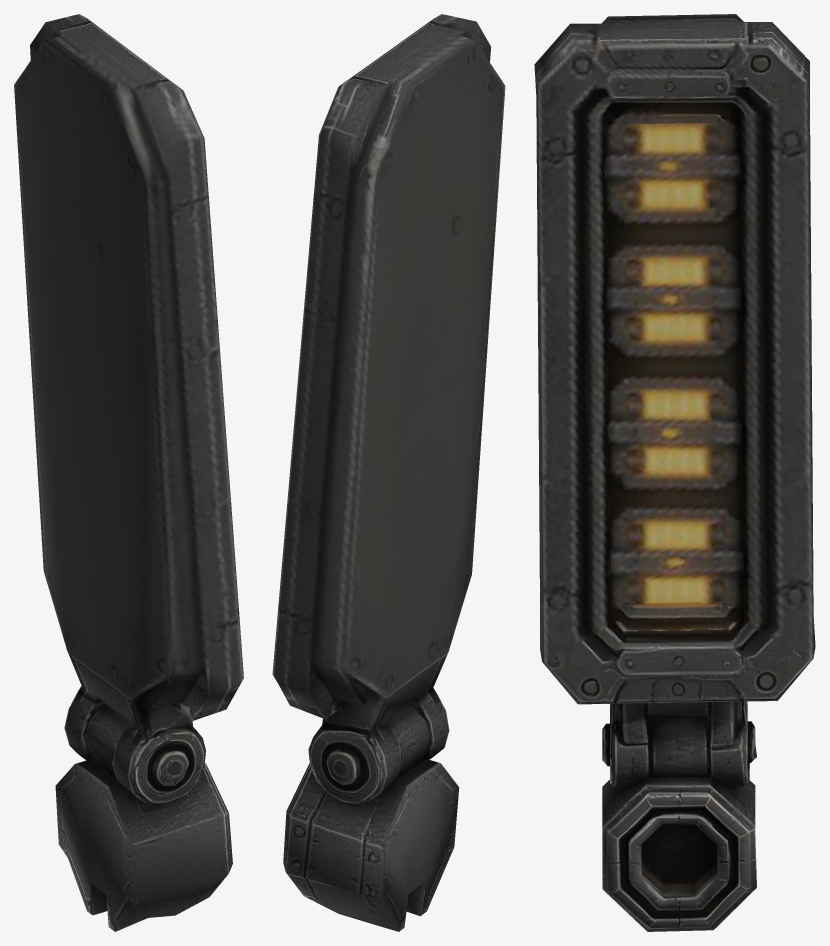
Rendered from cold-iron-v2-light-c-flood-bar.glb.
3 views of the same model, side by side, from view 1: azimuth 30°, elevation 25°; view 2: azimuth 150°, elevation 25°; view 3: azimuth 270°, elevation 25° (orthographic).
Parts seen in each view (by area): view 1: tripo_node_2e5066b8-63aa-4580-978c-2b9b5bd79849; view 2: tripo_node_2e5066b8-63aa-4580-978c-2b9b5bd79849; view 3: tripo_node_2e5066b8-63aa-4580-978c-2b9b5bd79849.
Boxes of the visible parts, x1,y1,x2,y2 form: tripo_node_2e5066b8-63aa-4580-978c-2b9b5bd79849: [14, 14, 243, 931]; tripo_node_2e5066b8-63aa-4580-978c-2b9b5bd79849: [272, 14, 505, 931]; tripo_node_2e5066b8-63aa-4580-978c-2b9b5bd79849: [534, 14, 815, 931].
Size of the model in its own units: 0.1582 by 0.998 by 0.291.
1 material, 1 textured.
